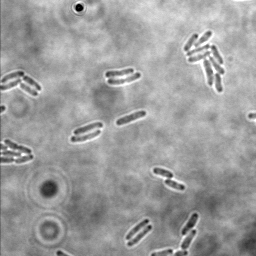Dividing: (115, 109, 147, 127), (70, 128, 101, 144), (106, 71, 141, 85)
Microcolony: (183, 30, 225, 93), (1, 70, 43, 99), (1, 138, 35, 164)
Rod: (126, 223, 155, 248), (125, 217, 150, 241), (71, 119, 104, 136), (180, 211, 201, 236), (180, 230, 198, 251), (104, 67, 135, 79), (163, 177, 186, 193), (152, 166, 174, 180)
